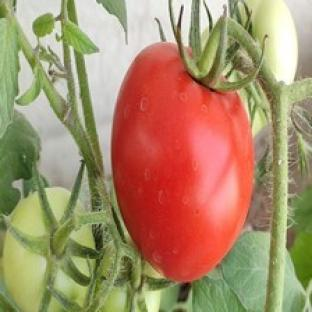Tomato: (112, 44, 253, 281), (3, 232, 47, 311)
